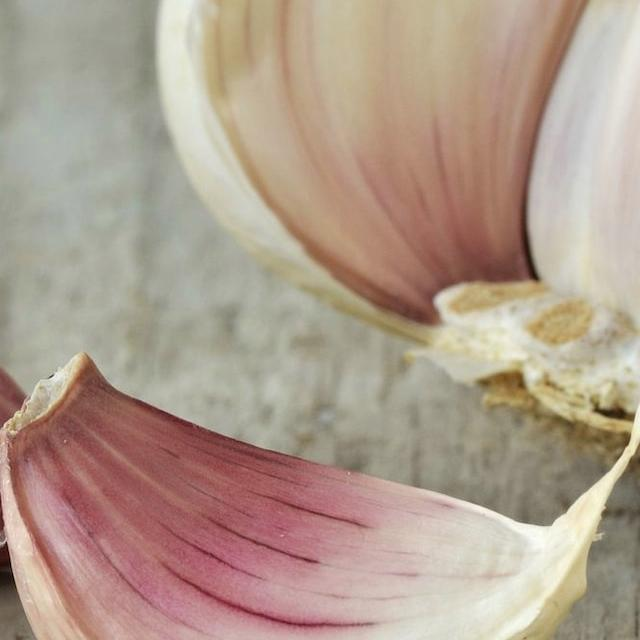garlic: (146, 0, 640, 440), (9, 360, 594, 640)
